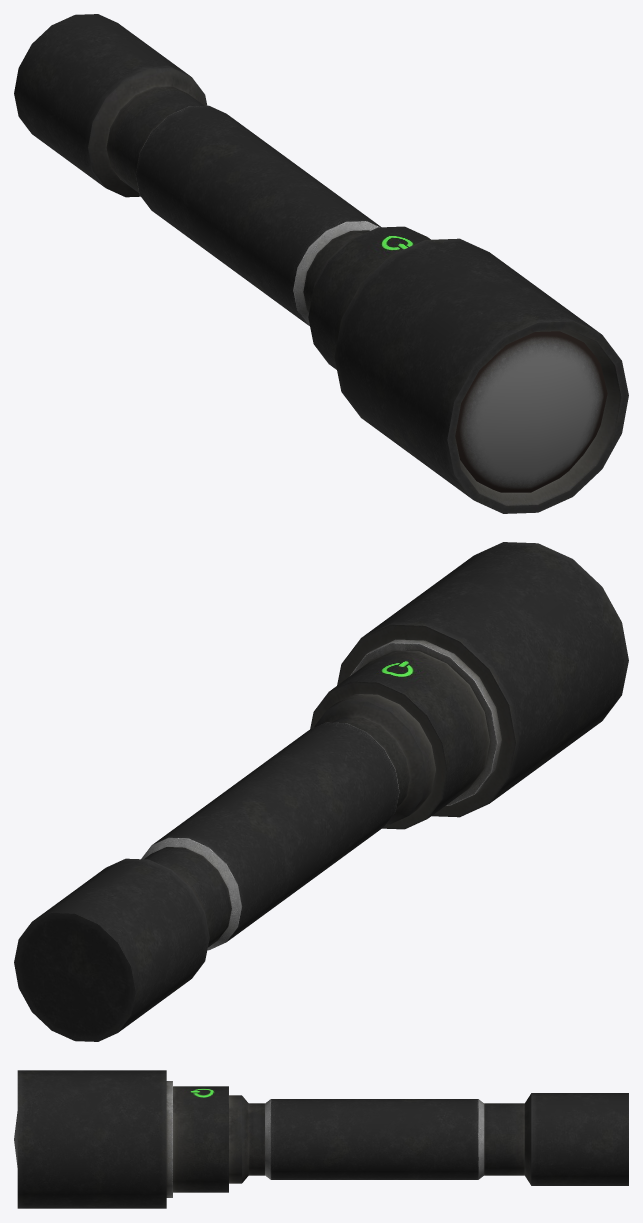
File: flashlight.glb
The picture shows the model from 3 angles, top to bottom: view 1: azimuth 30°, elevation 25°; view 2: azimuth 150°, elevation 25°; view 3: azimuth 270°, elevation 25°; orthographic projection. The views are drawn at different scales.
Parts seen in each view (by area): view 1: Cylinder.001, Cube; view 2: Cylinder.001; view 3: Cylinder.001.
Boxes of the visible parts, x1=… form: Cylinder.001: x1=14, y1=14, x2=628, y2=513; Cube: x1=455, y1=331, x2=607, y2=492; Cylinder.001: x1=14, y1=542, x2=628, y2=1041; Cylinder.001: x1=17, y1=1070, x2=628, y2=1208.
Bounding box in the file's own units: 111 × 111 × 495.
2 materials, 2 textured.
